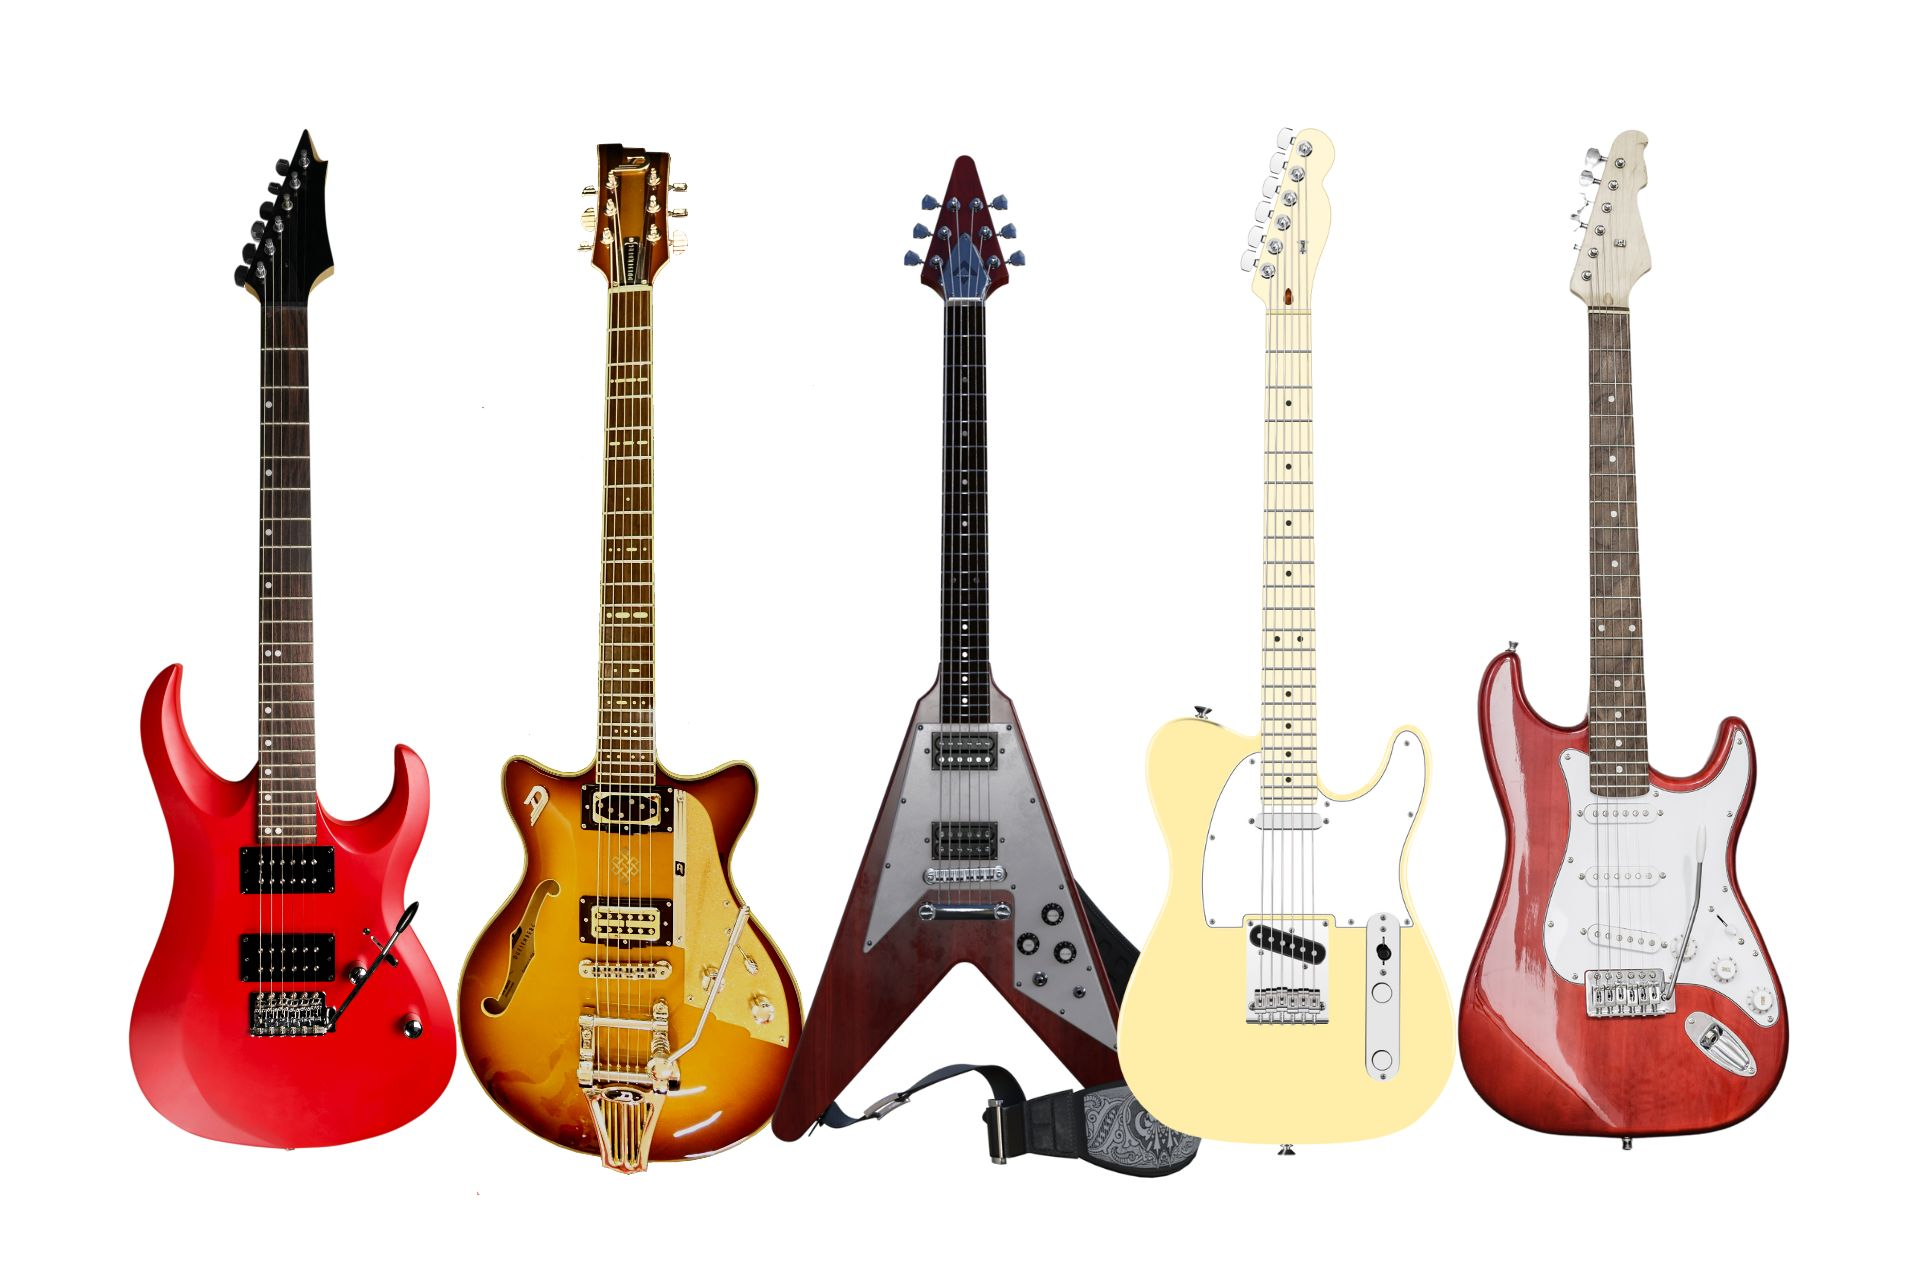guitar: (457, 140, 804, 1171), (1454, 121, 1791, 1146)
